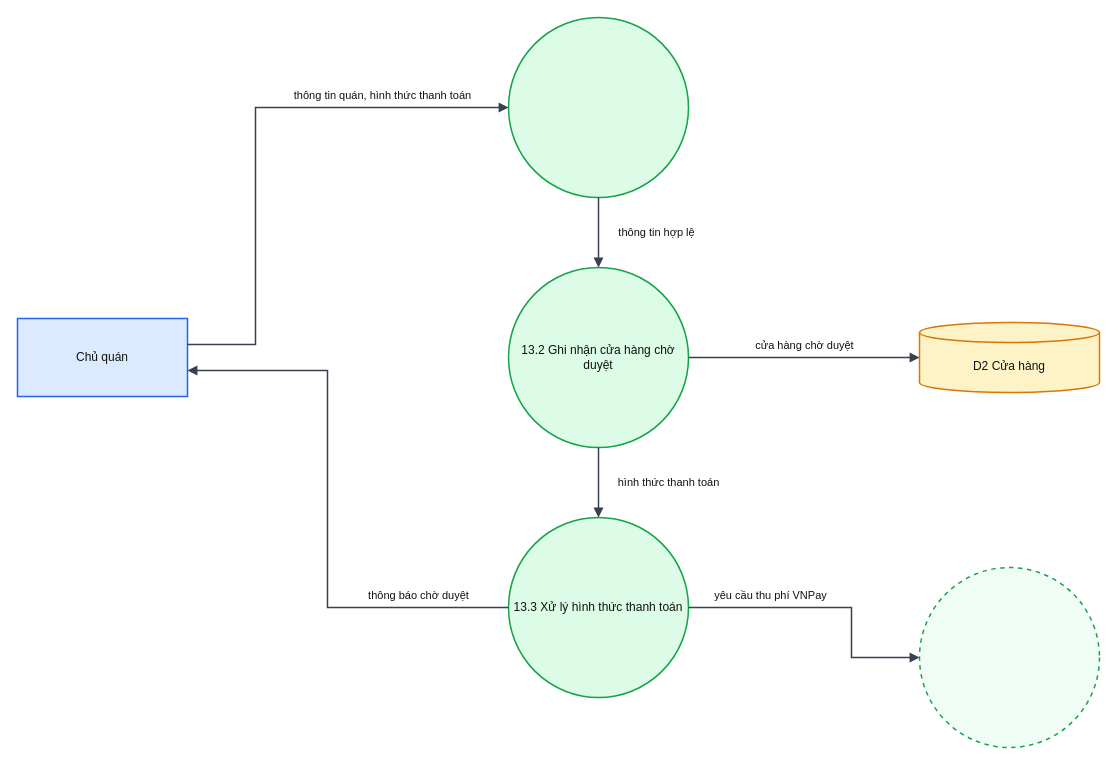
Image size: 1118x766. Some labels were removed from this diagram. Each missing label, with the centre of its shape:
"13.1 Nhập thông tin cửa hàng" belongs at point 598,107.
"8.0 Thanh toán VNPay" belongs at point 1009,657.
